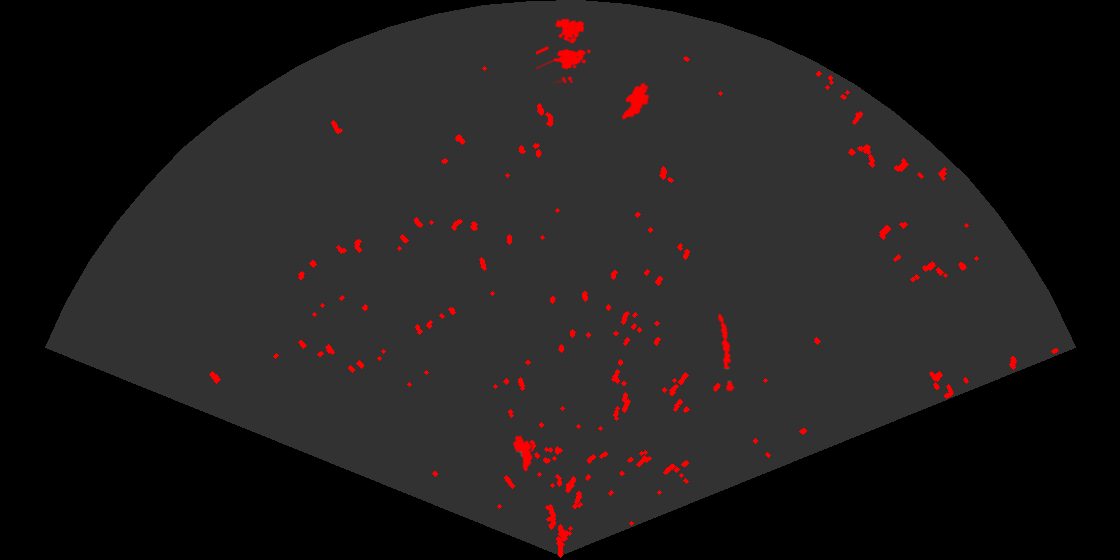AUV: (620, 81, 651, 121), (511, 433, 534, 473)
cage: (536, 17, 592, 83)
chain: (716, 311, 736, 393)
